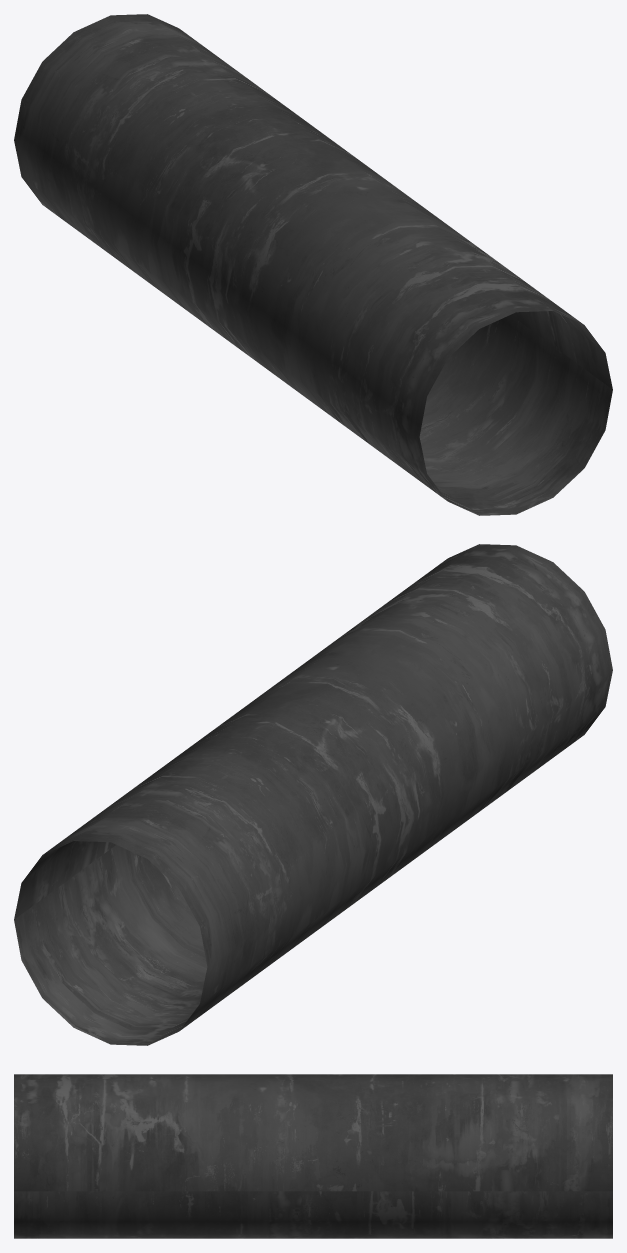
The model's file is pipe_001.fbx.
3 renders of one model, top to bottom at view 1: azimuth 30°, elevation 25°; view 2: azimuth 150°, elevation 25°; view 3: azimuth 270°, elevation 25°, orthographic. The views are drawn at different scales.
Visible parts, largest first — view 1: pipe_001; view 2: pipe_001; view 3: pipe_001.
Boxes of the visible parts, left/top/right/bottom form: pipe_001: left=14, top=14, right=612, bottom=515; pipe_001: left=14, top=544, right=612, bottom=1045; pipe_001: left=14, top=1074, right=612, bottom=1238.
Size of the model in its own units: 881 by 3200 by 881.
